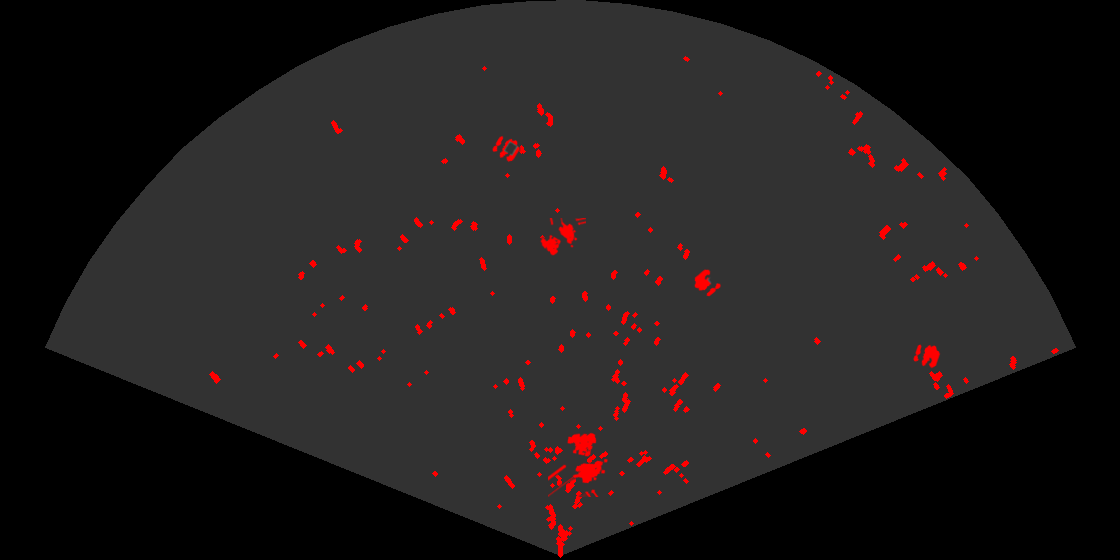ball: (491, 134, 521, 164), (693, 268, 722, 298), (912, 343, 942, 370)
cage: (548, 431, 609, 497), (539, 218, 586, 257)
